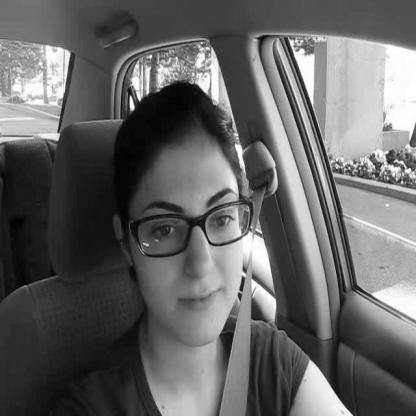seatbelt: (115, 76, 271, 416)
